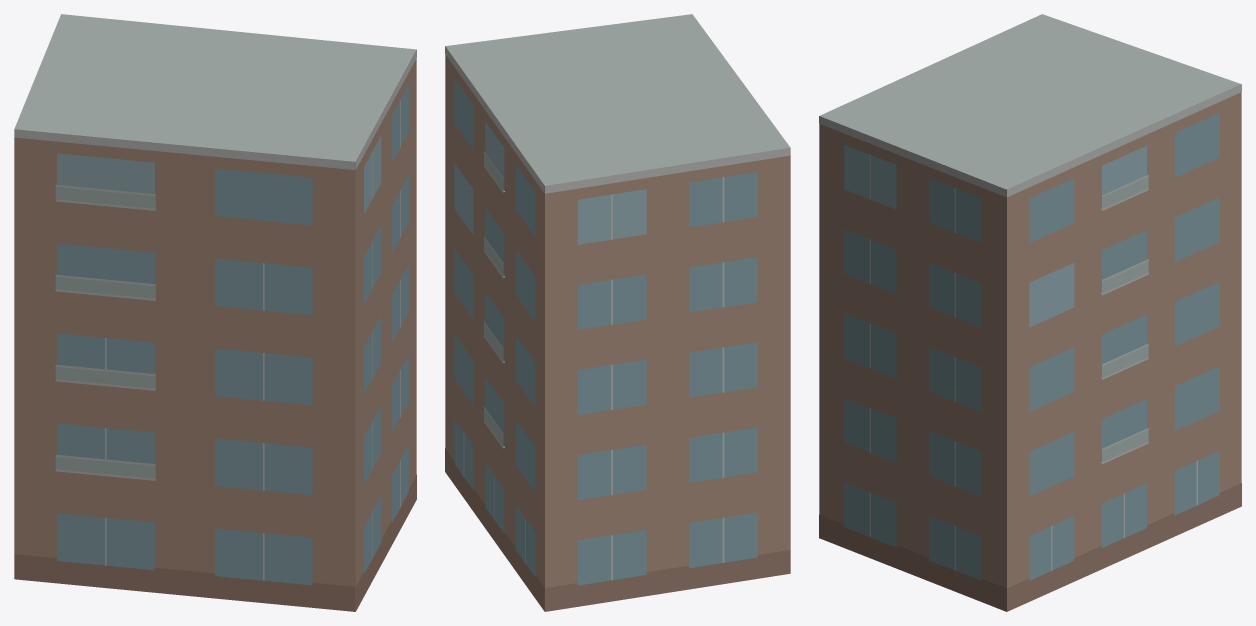
The model's file is survey-upis-33012061.glb.
3 views of the same model, side by side, from view 1: azimuth 30°, elevation 25°; view 2: azimuth 150°, elevation 25°; view 3: azimuth 270°, elevation 25° (orthographic). The views are drawn at different scales.
Visible parts, largest first — view 1: survey-upis-33012061.tmp; view 2: survey-upis-33012061.tmp; view 3: survey-upis-33012061.tmp.
Boxes of the visible parts, bbox=[...] form: survey-upis-33012061.tmp: bbox=[14, 14, 416, 611]; survey-upis-33012061.tmp: bbox=[445, 14, 790, 611]; survey-upis-33012061.tmp: bbox=[819, 14, 1241, 611].
Size of the model in its own units: 11.88 by 13.3 by 12.07.
